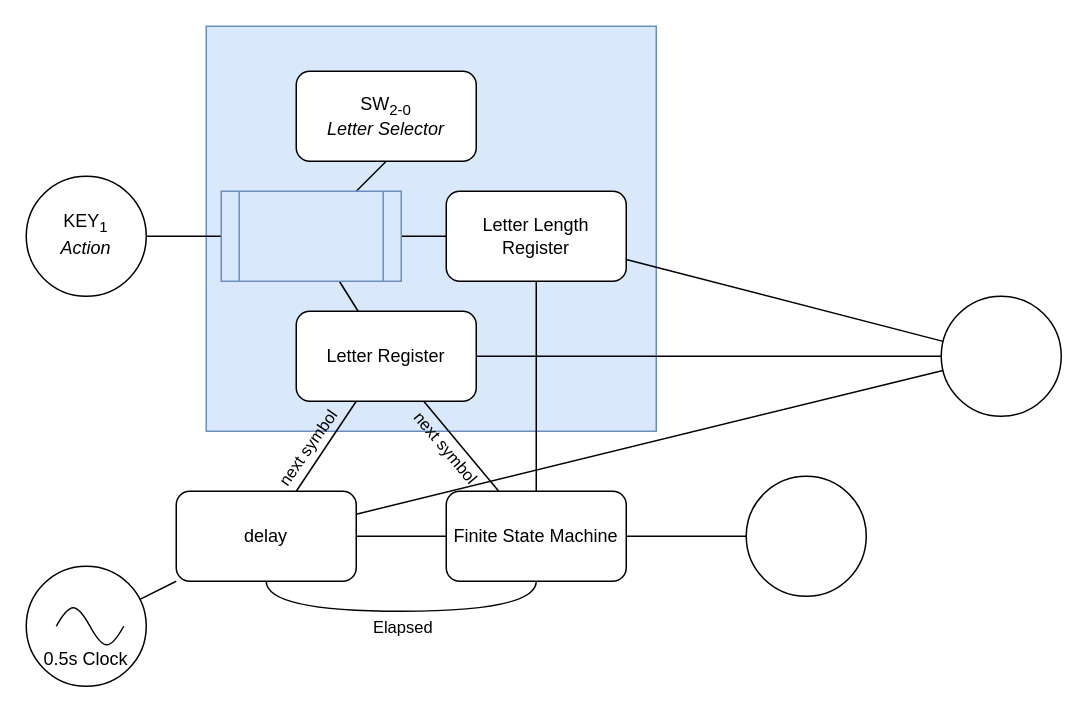
The diagram is 1088 pixels wide and 713 high, and some of its shapes have lost their labels. Here are the shapes that lost their labels. From the top down, the centre of each, then its label:
point 310,235: LOAD
point 1000,355: KEY 0 Async Reset
point 805,535: LEDR 9 Output
